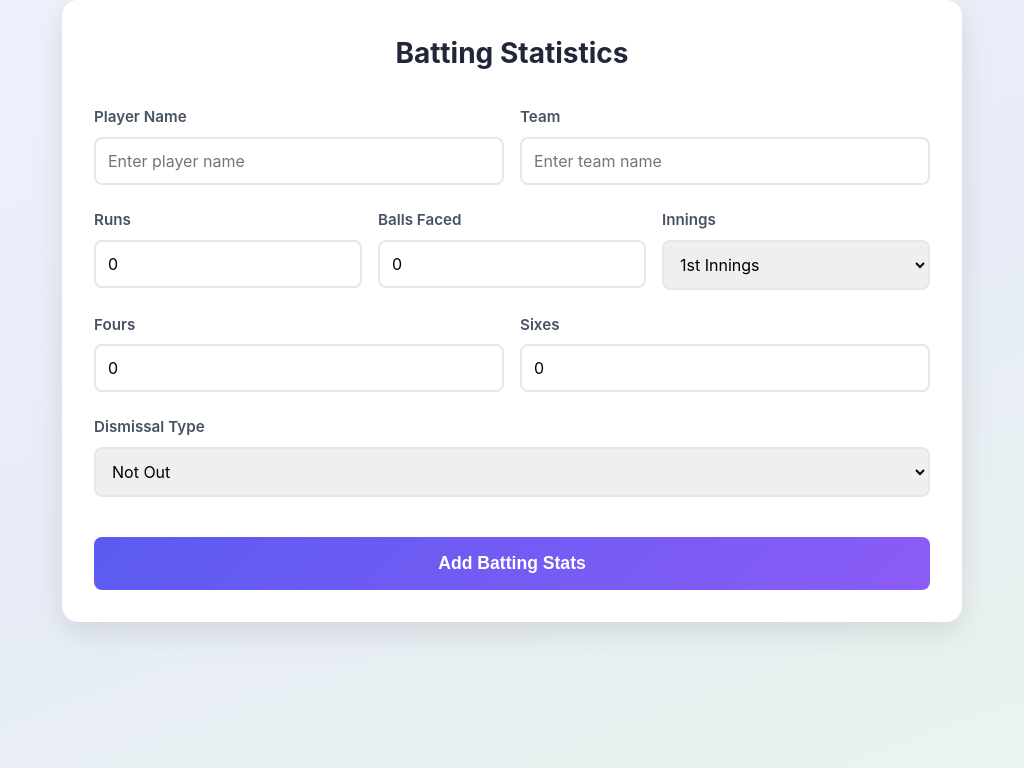
Test: BattingStats input handling › shows fielder field when dismissal type is Caught
Select "Caught" in the dropdown labelled "Dismissal Type": (512, 472) [94,447,930,497]
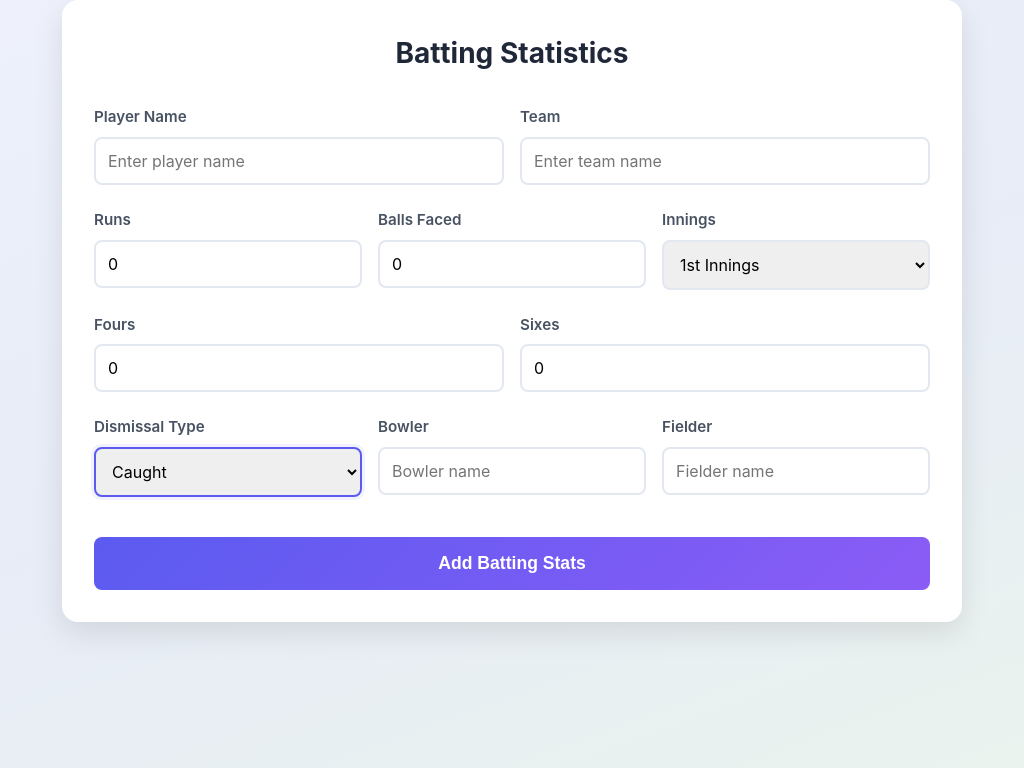
Result: the field labelled "Fielder" is shown at [662,447,930,495]
